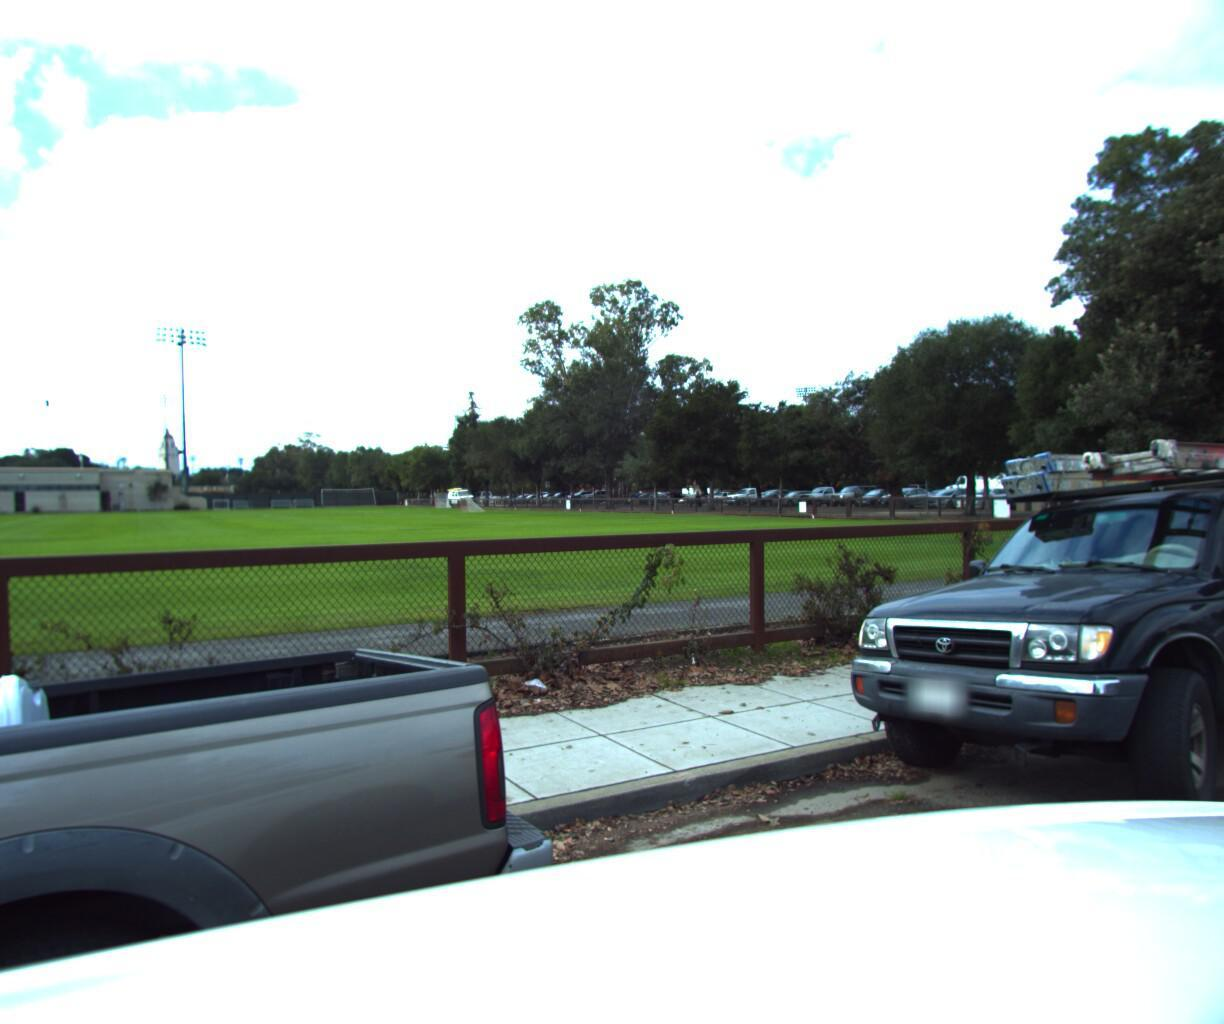car: (795, 424, 1224, 907)
